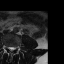CCS_normal: (10, 44, 12, 53)
LFS_normal: (14, 44, 16, 51)
LLS_normal: (12, 44, 14, 52)
RFS_stenosis: (6, 44, 8, 51)
RLS_normal: (8, 44, 10, 52)
